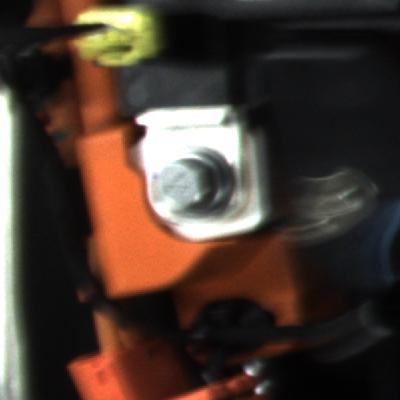nut_b: (144, 151, 246, 220)
